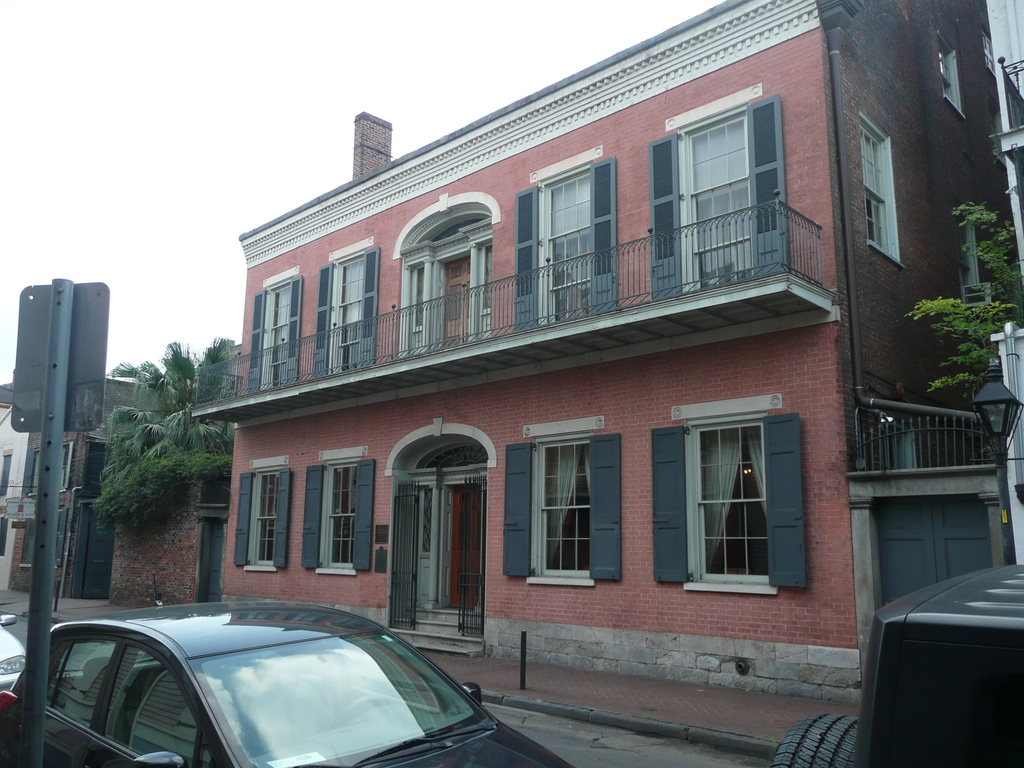Car: (43, 595, 504, 768), (0, 612, 28, 690)
